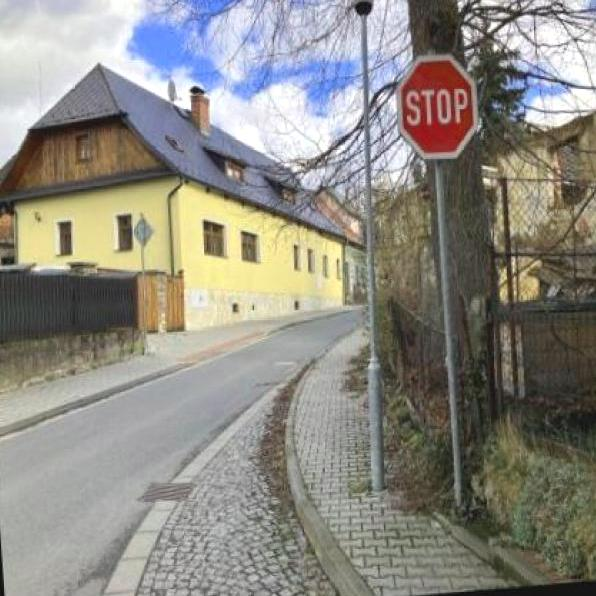stop_sign: (393, 53, 481, 165)
